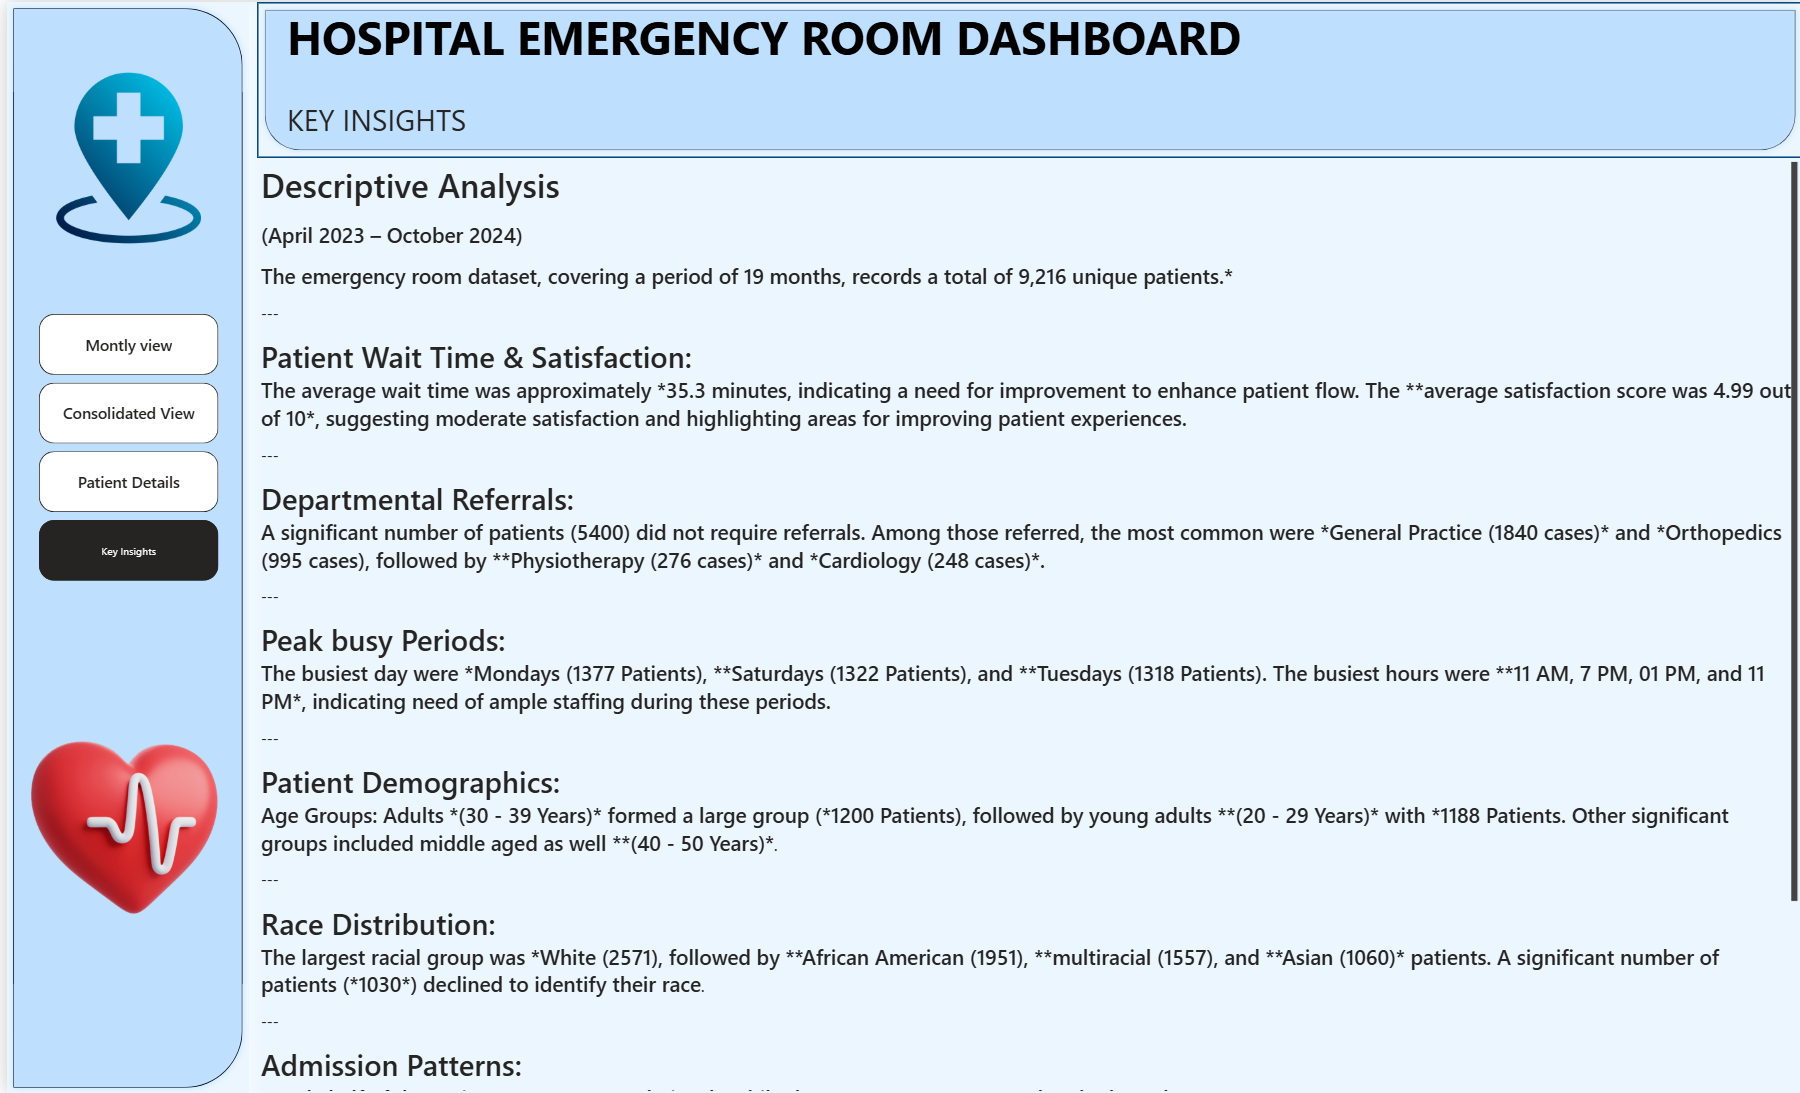

The page's visual inventory and layout, read from the dashboard file:
{"tool":"powerbi","page":{"name":"Key Insights","canvas":[2300,1400],"ordinal":3},"visuals":[{"type":"shape","box":[0,0,310,1400],"z":0},{"type":"shape","box":[320,0,1982.5,200],"z":1000},{"type":"textbox","box":[355,0,1280,90],"z":2000},{"type":"textbox","box":[355,120,640,80],"z":3000},{"type":"image","box":[40,0,230,400],"z":4000},{"type":"textbox","box":[320,200,1980,1200],"z":5000},{"type":"pageNavigator","box":[40,400,230,342.5],"z":6000},{"type":"image","box":[0,800,300,522.5],"z":7000}]}

Visuals, with their boxes on the page's 2300x1400 design canvas (x1, y1, x2, y2). These are canvas units, not pixel positions in the 1800x1093 screenshot, which may show the page scaled, cropped or inside an application window:
shape: left=0, top=0, right=310, bottom=1400
shape: left=320, top=0, right=2302, bottom=200
textbox: left=355, top=0, right=1635, bottom=90
textbox: left=355, top=120, right=995, bottom=200
image: left=40, top=0, right=270, bottom=400
textbox: left=320, top=200, right=2300, bottom=1400
pageNavigator: left=40, top=400, right=270, bottom=742
image: left=0, top=800, right=300, bottom=1322
